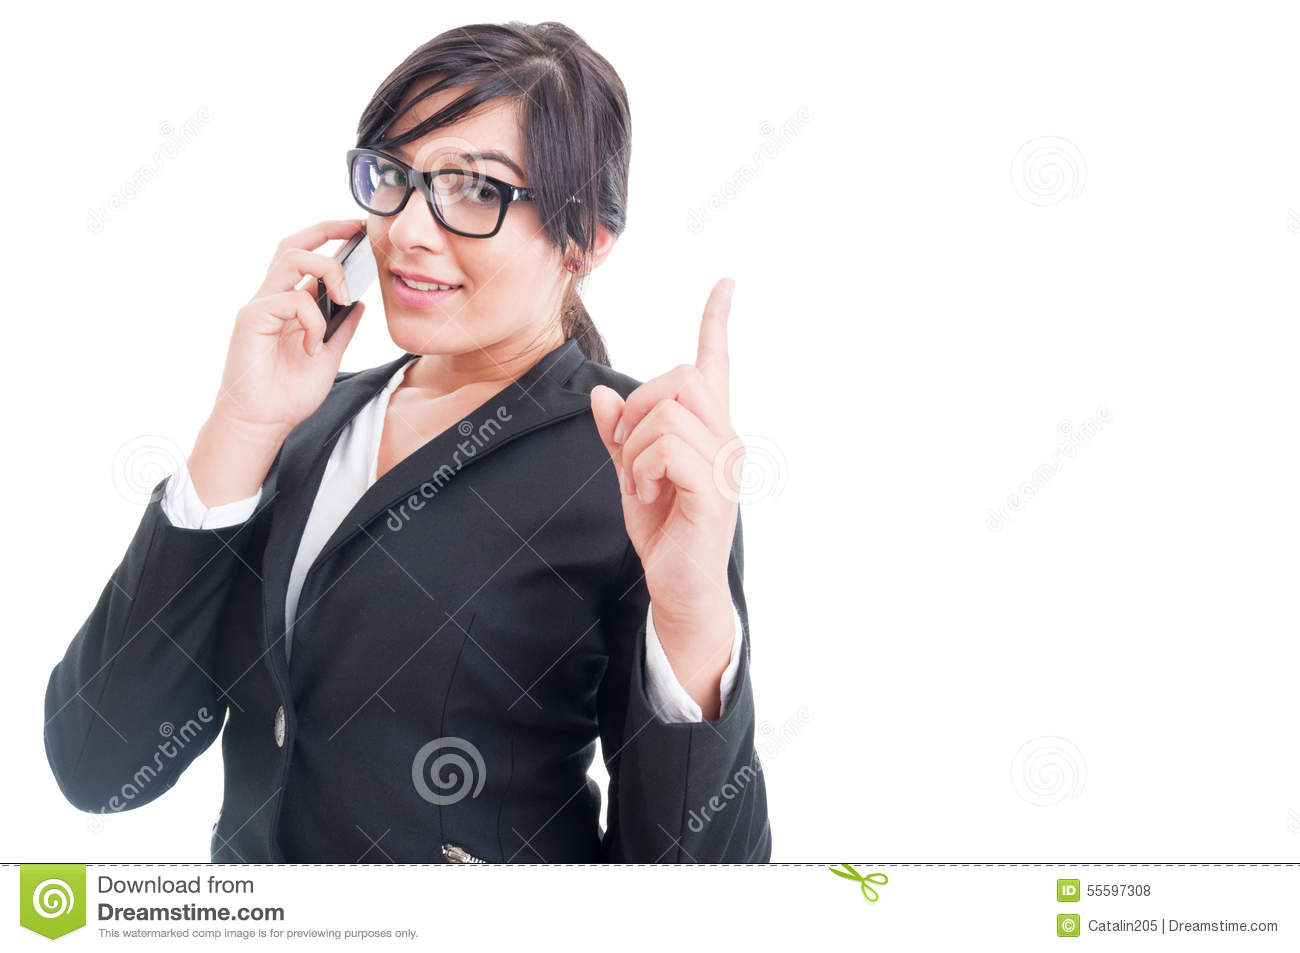phone: (312, 217, 375, 338)
talk: (214, 134, 534, 437)
